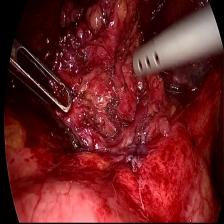Grasper: (16, 45, 72, 121)
Irrigator: (129, 26, 176, 85)
